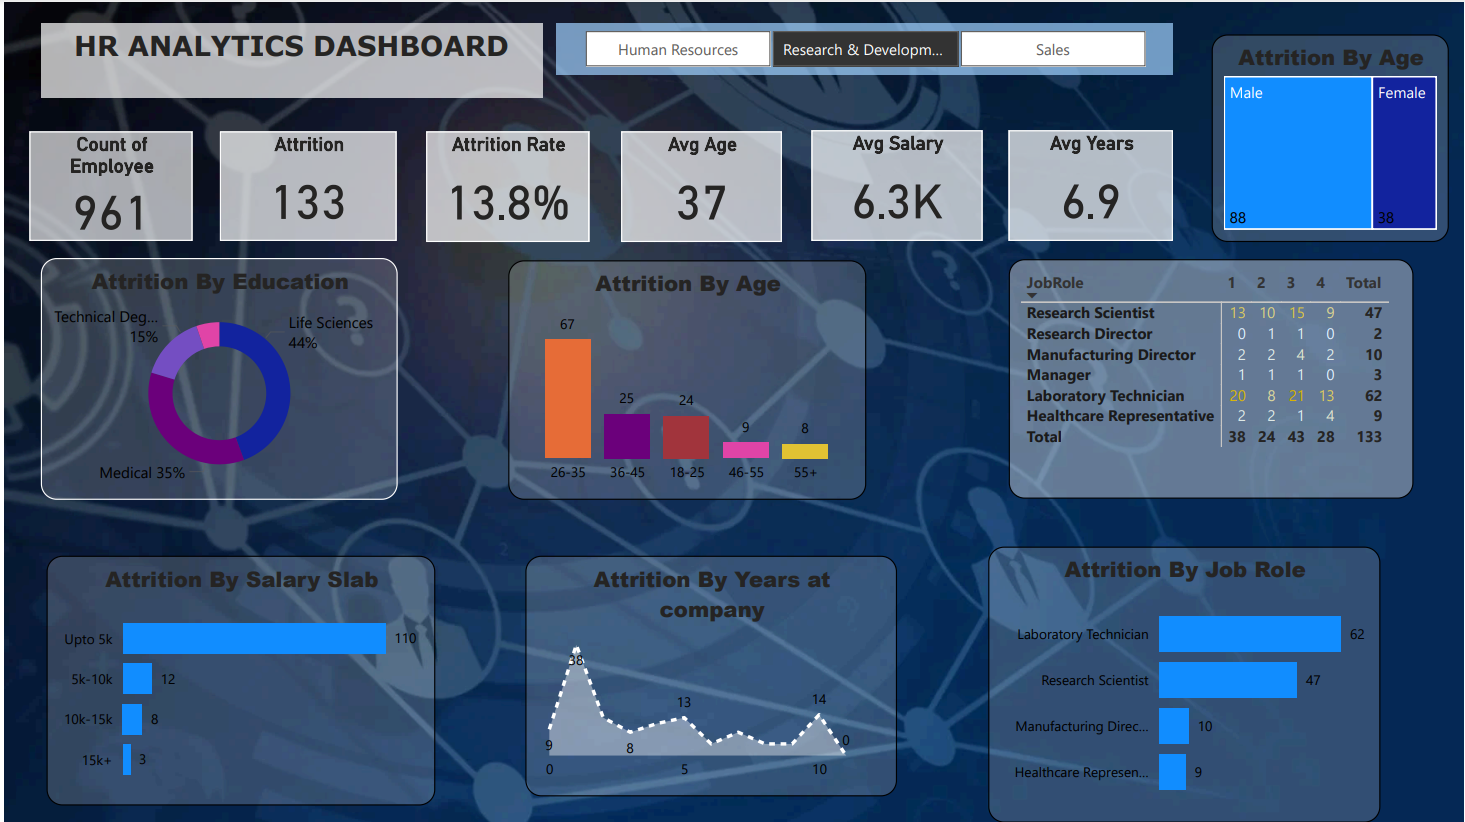

What the dashboard file says about the page in this screenshot:
{"tool":"powerbi","page":{"name":"Page 1","canvas":[1280,720],"ordinal":0},"visuals":[{"type":"card","title":"Count of Employee","fields":{"Values":["CountNonNull(HR_Analytics.EmpID)"]},"box":[22,113.9,142.7,96.1],"z":0},{"type":"card","title":"Avg Age","fields":{"Values":["Avg(HR_Analytics.Age)"]},"box":[540.7,113.9,141.3,97.4],"z":3},{"type":"card","title":"Attrition","fields":{"Values":["Sum(HR_Analytics.AttritionCount)"]},"box":[189.4,113.9,155.1,96.1],"z":4},{"type":"card","title":"Attrition Rate","fields":{"Values":["HR_Analytics.AttritionRate"]},"box":[370.5,113.9,142.7,97.4],"z":5},{"type":"card","title":"Avg Salary","fields":{"Values":["Avg(HR_Analytics.MonthlyIncome)"]},"box":[708.1,112.5,149.6,97.4],"z":6},{"type":"card","title":"Avg Years","fields":{"Values":["Avg(HR_Analytics.YearsAtCompany)"]},"box":[881,112.5,144.1,97.4],"z":7},{"type":"donutChart","title":"Attrition By Education","fields":{"Category":["HR_Analytics.EducationField"],"Y":["Sum(HR_Analytics.AttritionCount)"]},"box":[31.6,225.5,313.2,211.5],"z":8},{"type":"columnChart","title":"Attrition By Age","fields":{"Category":["HR_Analytics.AgeGroup"],"Y":["Sum(HR_Analytics.AttritionCount)"]},"box":[442.3,226.8,313.2,210.2],"z":9},{"type":"pivotTable","fields":{"Rows":["HR_Analytics.JobRole"],"Columns":["HR_Analytics.JobSatisfaction"],"Values":["Sum(HR_Analytics.AttritionCount)"]},"box":[881,226.4,355.4,209.9],"z":10},{"type":"barChart","title":"Attrition By Salary Slab","fields":{"Category":["HR_Analytics.SalarySlab"],"Y":["Sum(HR_Analytics.AttritionCount)"]},"box":[37.1,486.5,340.7,218.4],"z":11},{"type":"barChart","title":"Attrition By Job Role","fields":{"Category":["HR_Analytics.JobRole"],"Y":["Sum(HR_Analytics.AttritionCount)"]},"box":[862.7,478.2,344.8,241.8],"z":12},{"type":"areaChart","title":"Attrition By Years at company","fields":{"Category":["HR_Analytics.YearsAtCompany"],"Y":["Sum(HR_Analytics.AttritionCount)"]},"box":[457.4,486.5,325.6,210.2],"z":13},{"type":"treemap","title":"Attrition By Age","fields":{"Group":["HR_Analytics.Gender"],"Values":["Sum(HR_Analytics.AttritionCount)"]},"box":[1059.4,28.8,207.2,182.5],"z":14},{"type":"slicer","fields":{"Values":["HR_Analytics.Department"]},"box":[484.4,19.2,540.7,45.3],"z":15},{"type":"textbox","box":[31.6,19.2,440.5,64.5],"z":16}]}

Visuals, with their boxes in screenshot pixels (x1, y1, x2, y2), scaled from the page's 1280x720 canvas onto the 1465x822 screenshot:
"Count of Employee" card: Rect(25, 130, 189, 240)
"Avg Age" card: Rect(619, 130, 781, 241)
"Attrition" card: Rect(217, 130, 394, 240)
"Attrition Rate" card: Rect(424, 130, 587, 241)
"Avg Salary" card: Rect(810, 128, 982, 240)
"Avg Years" card: Rect(1008, 128, 1173, 240)
"Attrition By Education" donutChart: Rect(36, 257, 395, 499)
"Attrition By Age" columnChart: Rect(506, 259, 865, 499)
pivotTable - HR_Analytics.JobRole x HR_Analytics.JobSatisfaction: Rect(1008, 258, 1415, 498)
"Attrition By Salary Slab" barChart: Rect(42, 555, 432, 805)
"Attrition By Job Role" barChart: Rect(987, 546, 1382, 821)
"Attrition By Years at company" areaChart: Rect(524, 555, 896, 795)
"Attrition By Age" treemap: Rect(1213, 33, 1450, 241)
slicer - HR_Analytics.Department: Rect(554, 22, 1173, 74)
textbox: Rect(36, 22, 540, 96)
